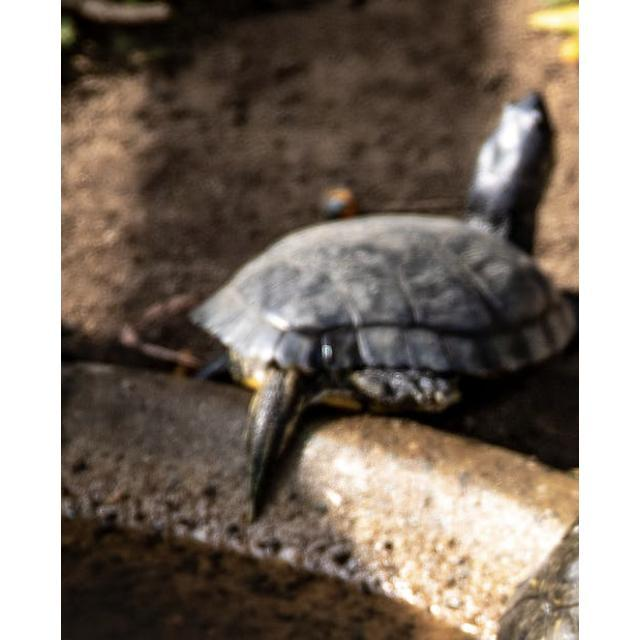turtle: (182, 92, 572, 521)
